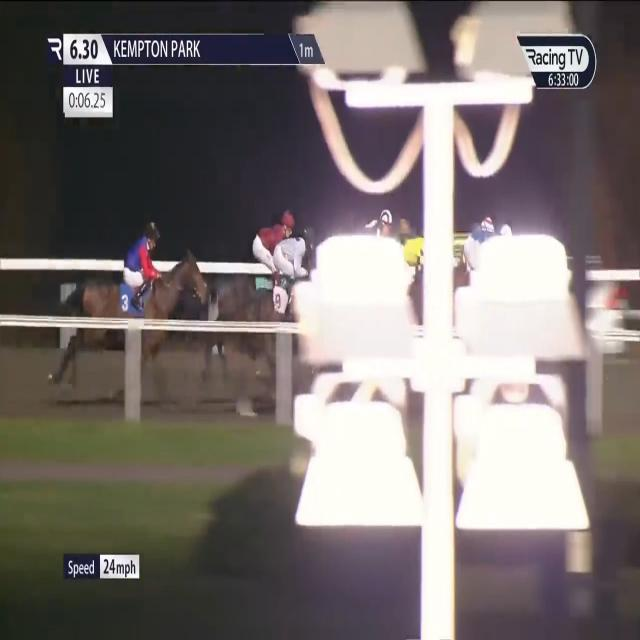horses-racing: (66, 220, 210, 358), (250, 225, 326, 350), (237, 202, 287, 281)
